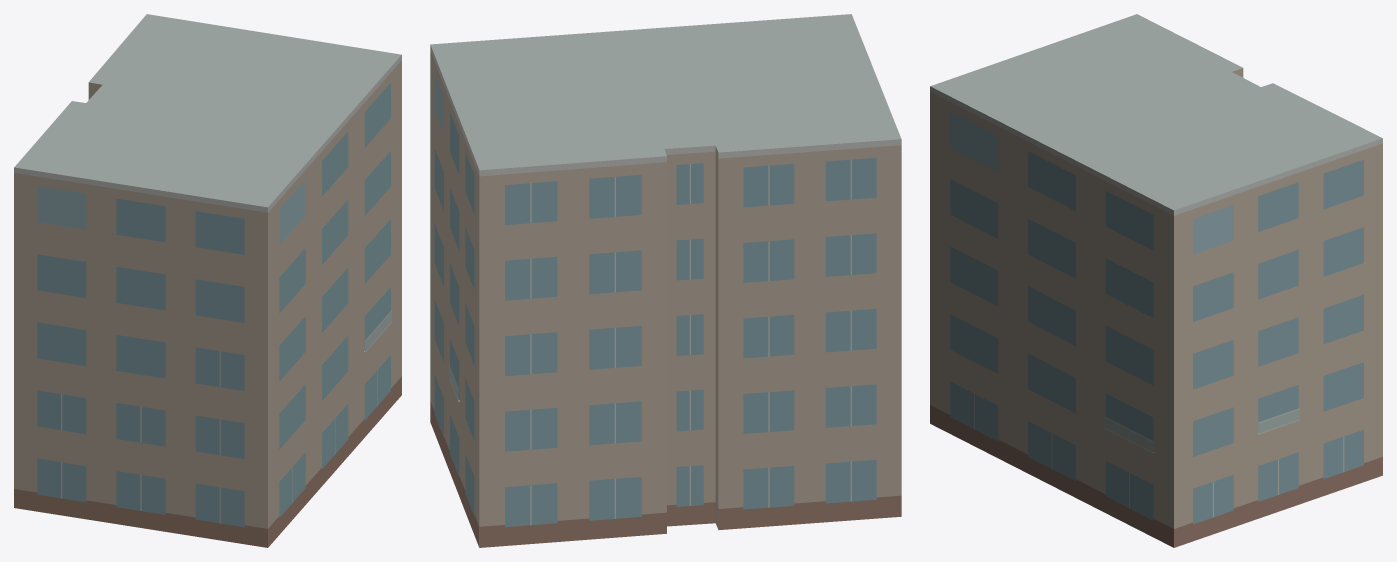
The model's file is survey-upis-32834875.glb.
3 views of the same model, side by side, from view 1: azimuth 30°, elevation 25°; view 2: azimuth 150°, elevation 25°; view 3: azimuth 270°, elevation 25° (orthographic). The views are drawn at different scales.
Parts seen in each view (by area): view 1: survey-upis-32834875.tmp; view 2: survey-upis-32834875.tmp; view 3: survey-upis-32834875.tmp.
Boxes of the visible parts, box(x1,y1,x2,y2) form: survey-upis-32834875.tmp: box(14, 14, 401, 547); survey-upis-32834875.tmp: box(430, 14, 901, 547); survey-upis-32834875.tmp: box(930, 14, 1382, 547).
Bounding box in the file's own units: 19.12 × 15.3 × 18.61.
